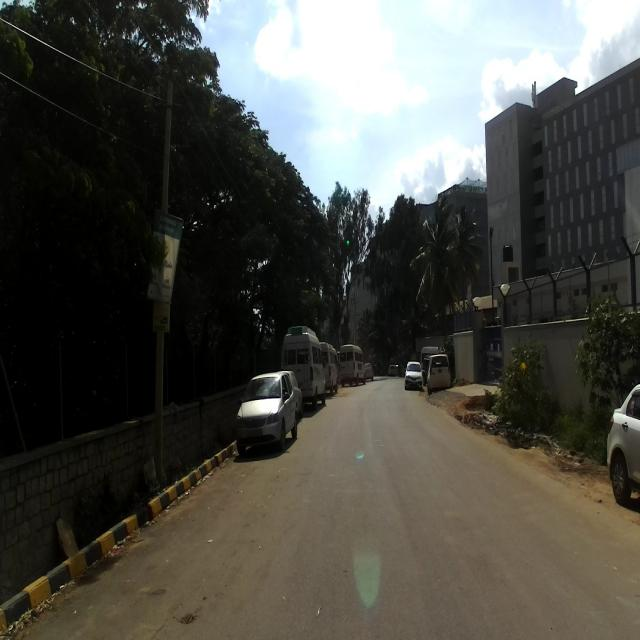car: (235, 372, 298, 455)
